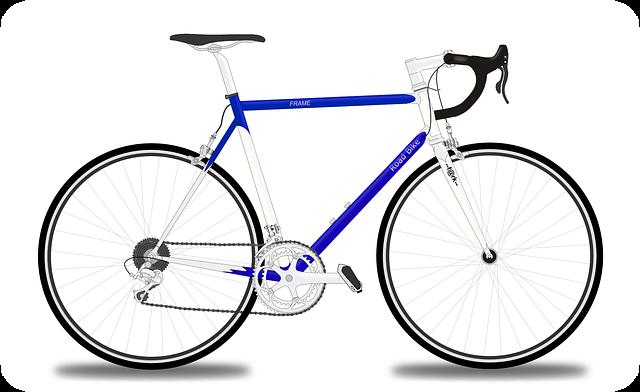Non_Gorille: (26, 12, 608, 380)
